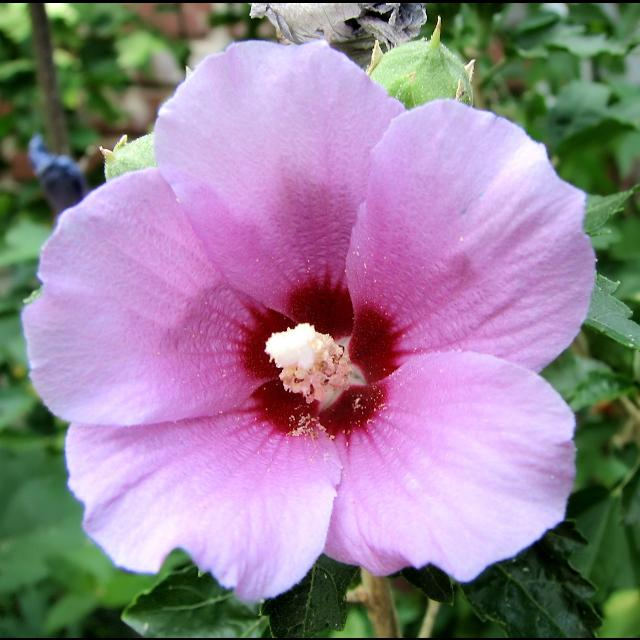Flower: (19, 54, 605, 620)
